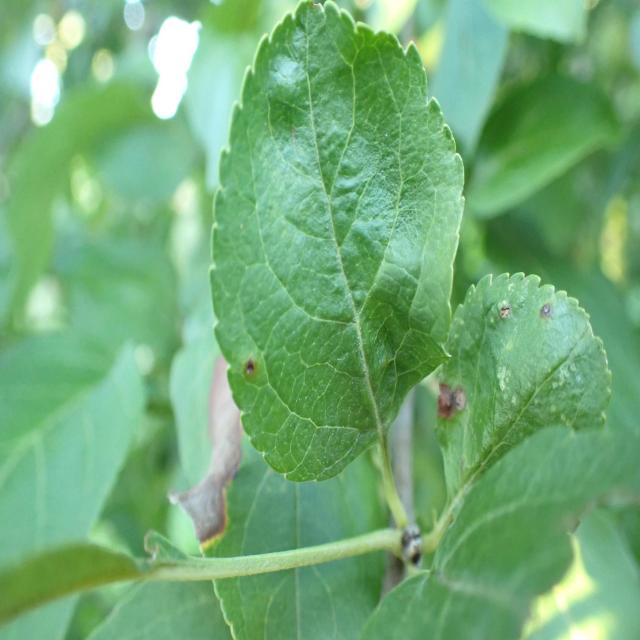frog-eye-leaf-spot: (211, 1, 466, 483), (434, 271, 612, 513)
